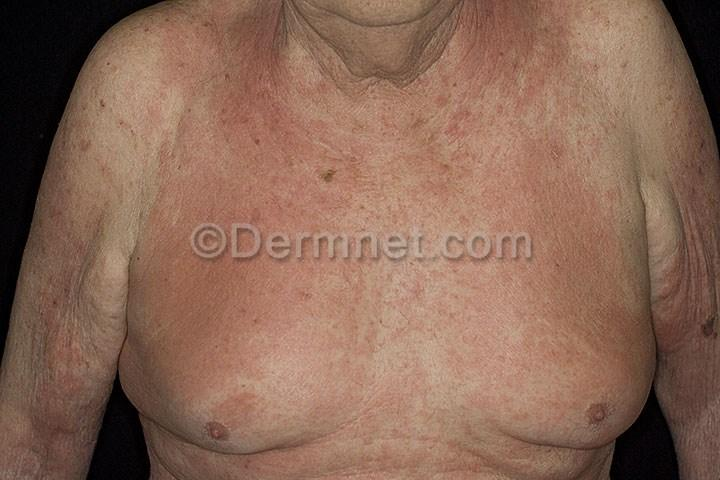Eczema: (256, 40, 451, 217), (127, 174, 304, 354), (450, 154, 622, 311), (444, 0, 604, 156), (301, 217, 444, 387), (124, 0, 268, 165), (454, 313, 572, 427), (20, 180, 132, 294), (614, 96, 720, 208), (641, 213, 720, 350), (9, 296, 99, 407), (590, 310, 643, 397)
